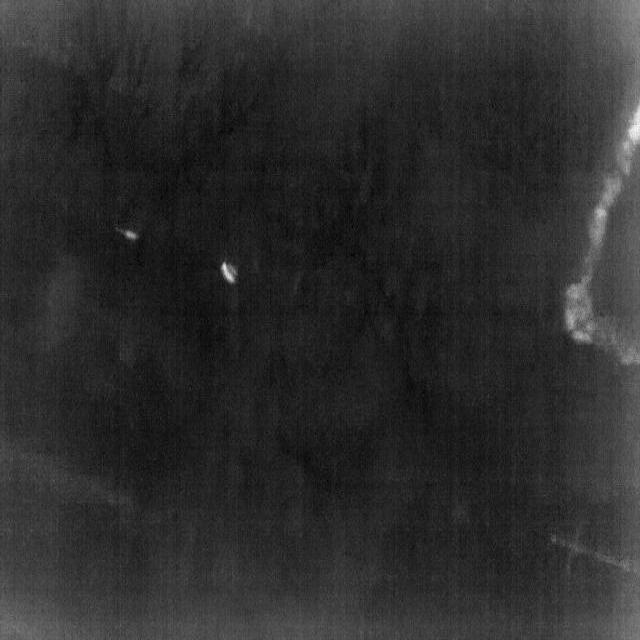deer: (221, 262, 237, 284), (120, 228, 140, 242)
